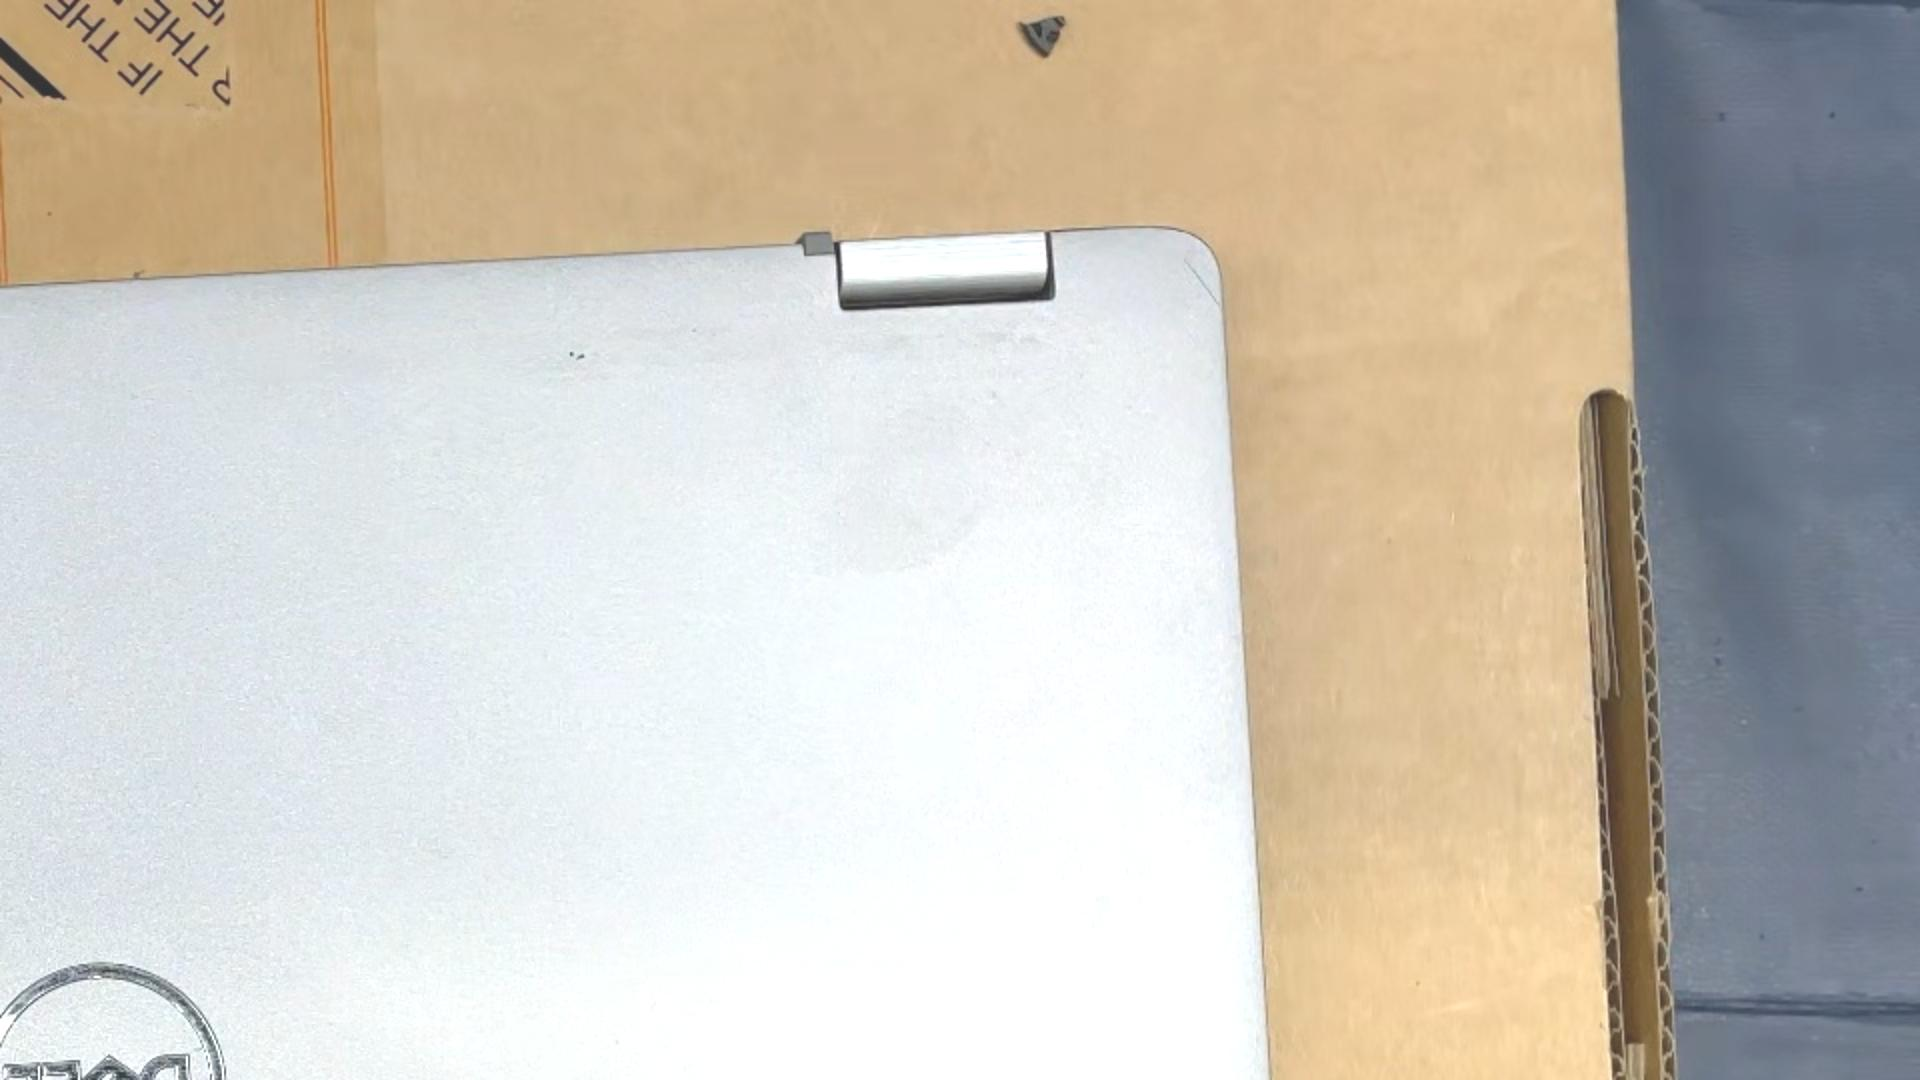chip: (568, 351, 588, 361)
scratches: (1180, 256, 1222, 311)
